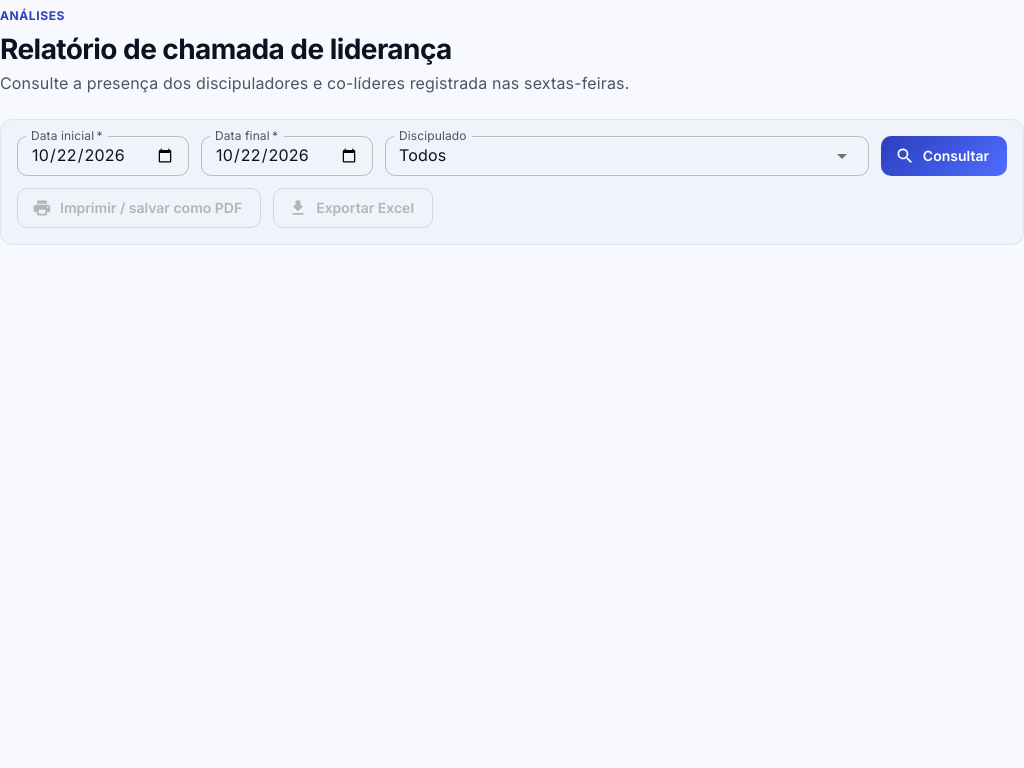
Test case: relatório de chamada de liderança › permite filtrar o relatório por discipulado
Step 1. Type "Líder Alpha" into the dropdown with placeholder "Pesquisar discipulado ou discipulador" → (597, 156), box [391,142,804,170]
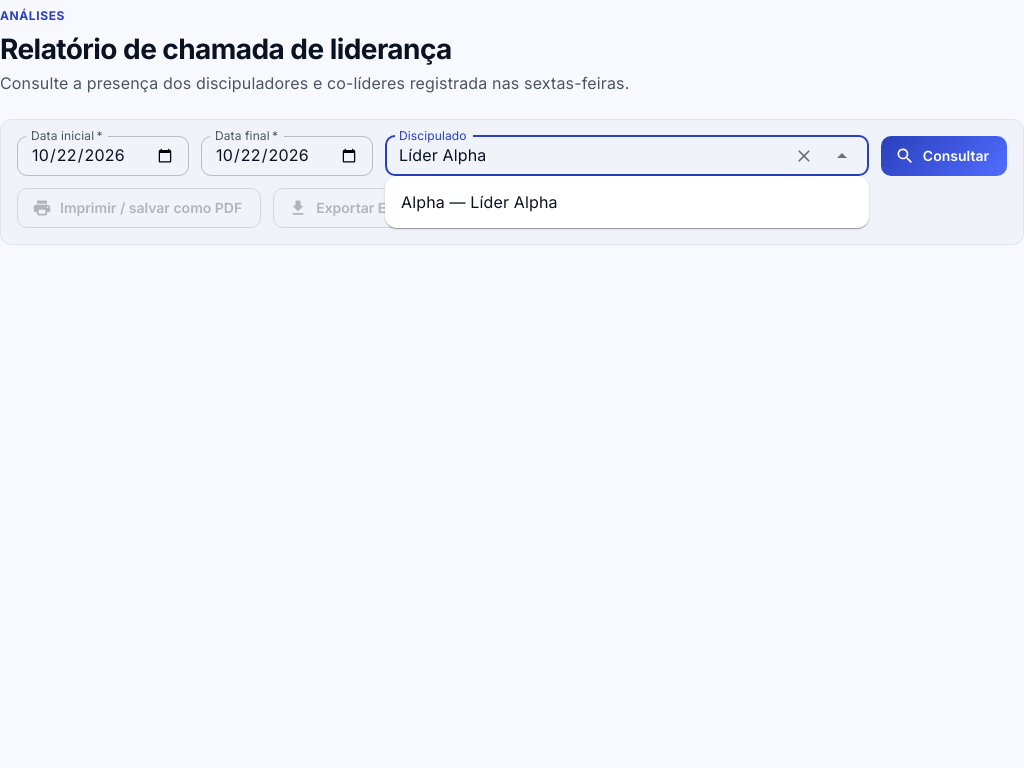
Step 2. Click the option "Alpha — Líder Alpha" → (479, 202), box [401,192,558,212]
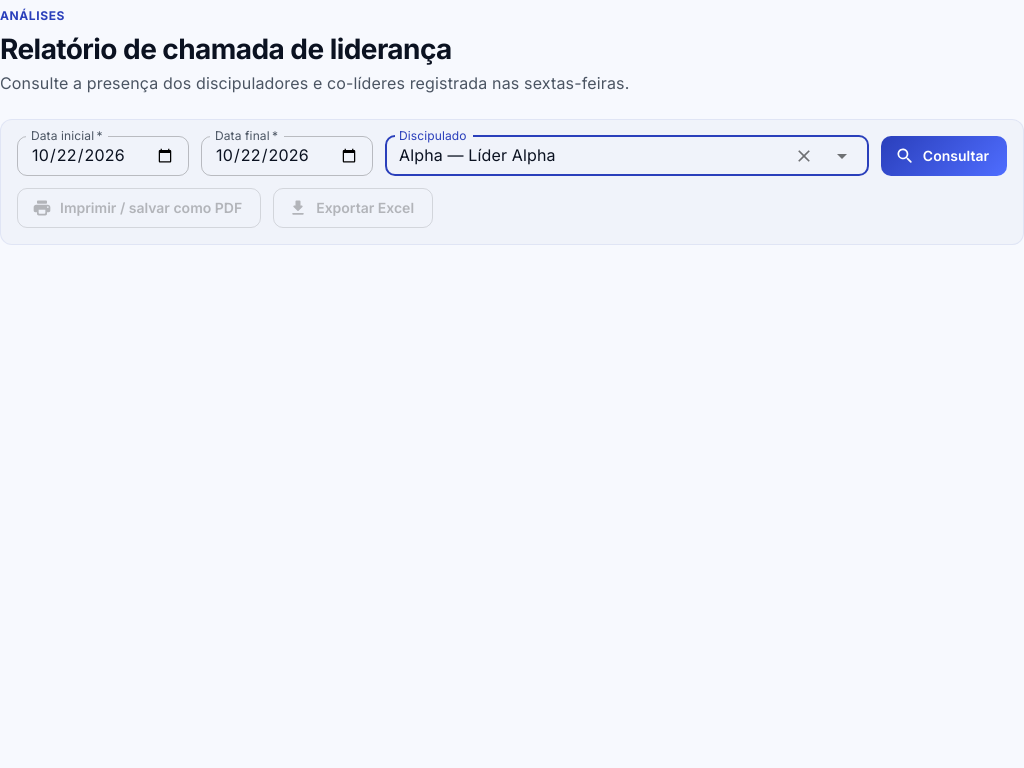
Step 3. Click the button "Consultar" → (944, 156), box [881,136,1007,176]
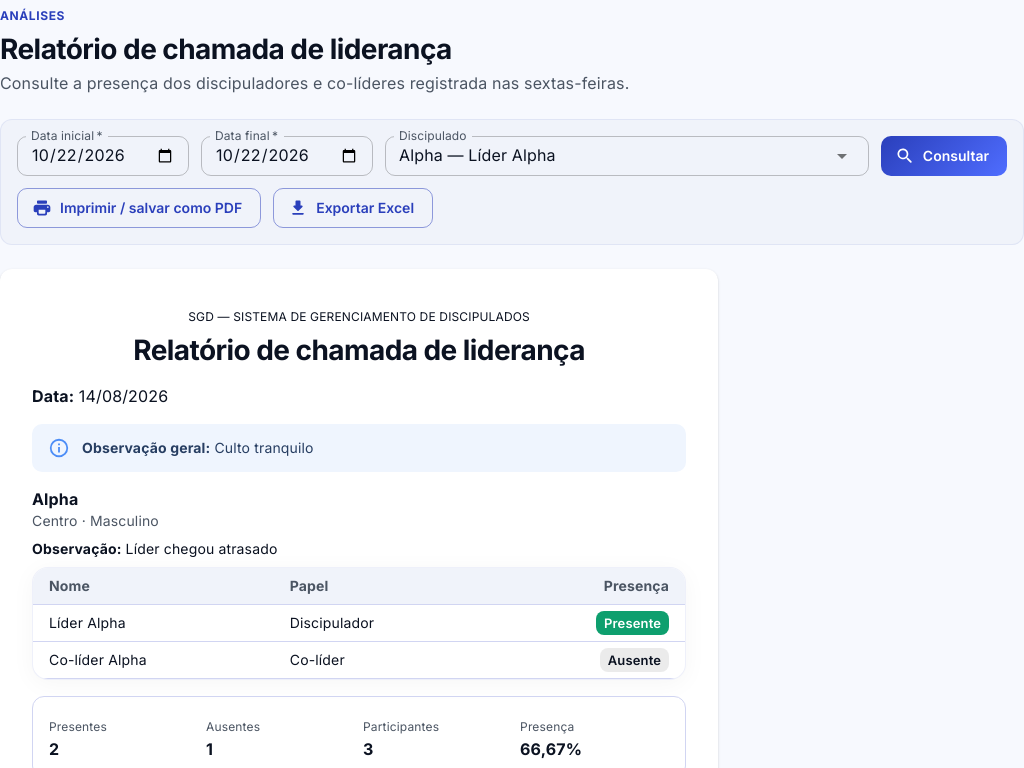
Expected: the table named "Chamada de liderança do Alpha em 14/08/2026" is shown, [33,568,685,679]
